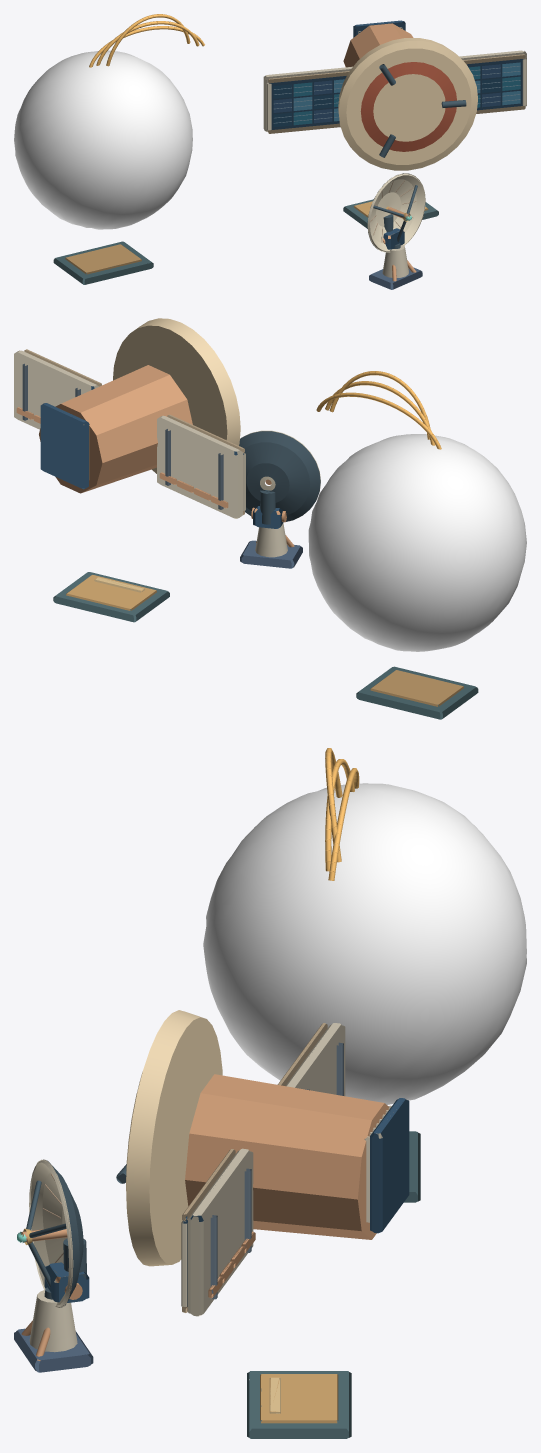
File: sol-corona.obj
The picture shows the model from 3 angles, top to bottom: view 1: azimuth 30°, elevation 25°; view 2: azimuth 150°, elevation 25°; view 3: azimuth 270°, elevation 25°; orthographic projection. The views are drawn at different scales.
Visible parts, largest first — view 1: sol-corona; view 2: sol-corona; view 3: sol-corona.
Part boxes in pixels (box(x1,y1,x2,y2)): sol-corona: box(14, 14, 526, 289); sol-corona: box(14, 318, 526, 719); sol-corona: box(14, 748, 526, 1438).
Size of the model in its own units: 1.5 by 0.7875 by 0.8124.
